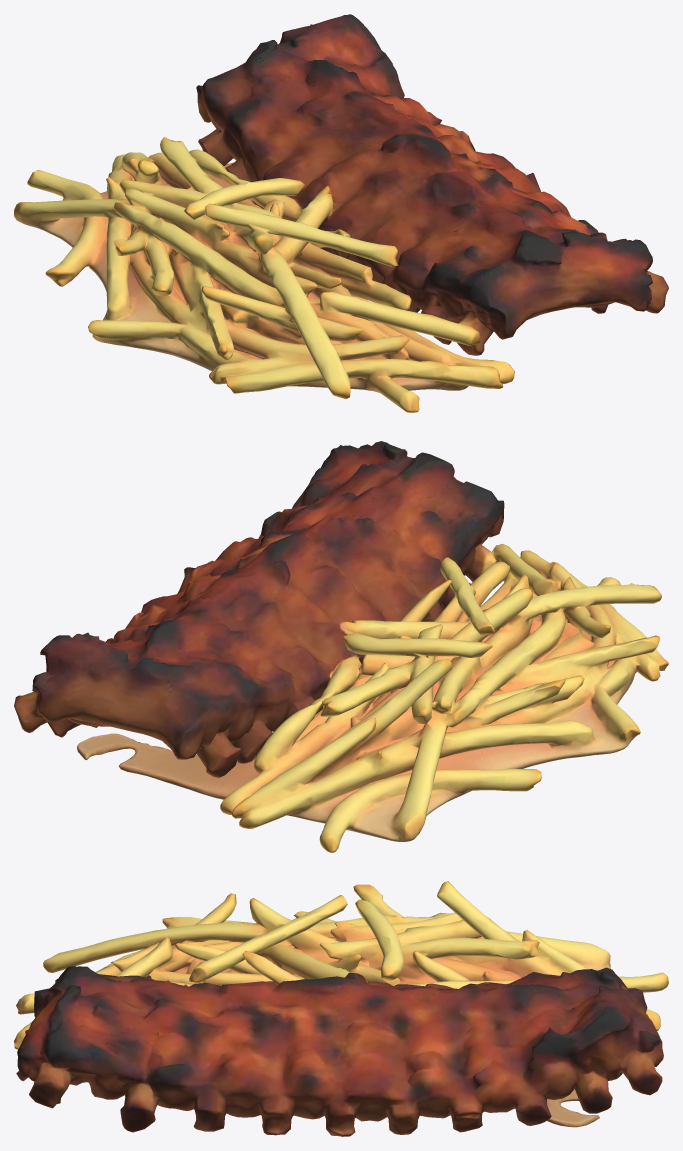
The model's file is p_ribs.glb.
The picture shows the model from 3 angles, top to bottom: view 1: azimuth 30°, elevation 25°; view 2: azimuth 150°, elevation 25°; view 3: azimuth 270°, elevation 25°; orthographic projection. The views are drawn at different scales.
Parts seen in each view (by area): view 1: tripo_node_85558e24-e9ae-49c9-9c01-448ac905b086; view 2: tripo_node_85558e24-e9ae-49c9-9c01-448ac905b086; view 3: tripo_node_85558e24-e9ae-49c9-9c01-448ac905b086.
Boxes of the visible parts, box(x1,y1,x2,y2) form: tripo_node_85558e24-e9ae-49c9-9c01-448ac905b086: box(14, 14, 668, 412); tripo_node_85558e24-e9ae-49c9-9c01-448ac905b086: box(14, 441, 668, 852); tripo_node_85558e24-e9ae-49c9-9c01-448ac905b086: box(14, 881, 668, 1136).
Size of the model in its own units: 0.7816 by 0.2044 by 1.
Materials: 1 (1 with a texture image).
